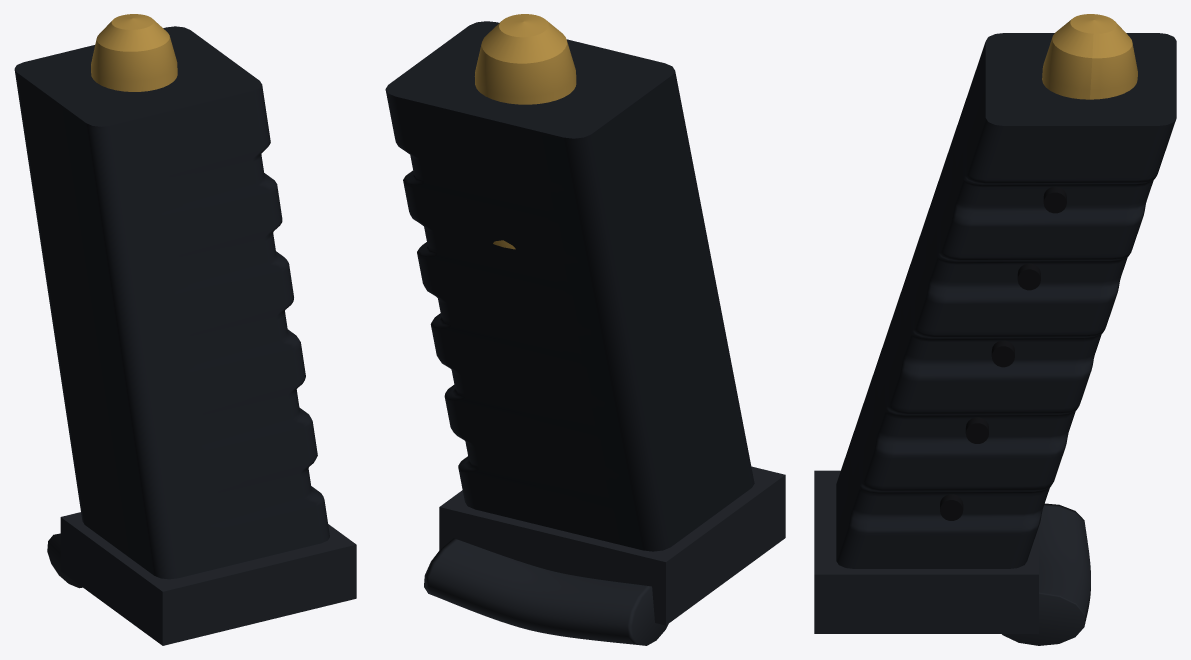
File: weapon_sidearm_magazine.glb
3 views of the same model, side by side, from view 1: azimuth 30°, elevation 25°; view 2: azimuth 150°, elevation 25°; view 3: azimuth 270°, elevation 25° (orthographic). The views are drawn at different scales.
Visible parts, largest first — view 1: sidearm_mag_body, sidearm_mag_floorplate, sidearm_top_round, sidearm_mag_base_lip; view 2: sidearm_mag_body, sidearm_mag_floorplate, sidearm_mag_base_lip, sidearm_top_round; view 3: sidearm_mag_body, sidearm_mag_floorplate, sidearm_mag_base_lip, sidearm_top_round, sidearm_mag_witness_140, sidearm_mag_witness_220, sidearm_mag_witness_300, sidearm_mag_witness_380, sidearm_mag_witness_460.
Part boxes in pixels (x1,y1,x2,y2): sidearm_mag_body: (14, 26, 329, 579); sidearm_mag_floorplate: (60, 512, 356, 645); sidearm_top_round: (91, 14, 177, 91); sidearm_mag_base_lip: (47, 533, 82, 588); sidearm_mag_body: (385, 21, 754, 551); sidearm_mag_floorplate: (439, 466, 785, 625); sidearm_mag_base_lip: (424, 538, 668, 645); sidearm_top_round: (474, 14, 576, 249); sidearm_mag_body: (836, 33, 1176, 568); sidearm_mag_floorplate: (814, 470, 1038, 633); sidearm_mag_base_lip: (1002, 503, 1090, 645); sidearm_top_round: (1042, 14, 1137, 99); sidearm_mag_witness_140: (1043, 186, 1066, 213); sidearm_mag_witness_220: (1017, 263, 1040, 290); sidearm_mag_witness_300: (991, 340, 1014, 367); sidearm_mag_witness_380: (965, 417, 988, 443); sidearm_mag_witness_460: (940, 494, 963, 520).
Bounding box in the file's own units: 0.0232 × 0.061 × 0.0342.
